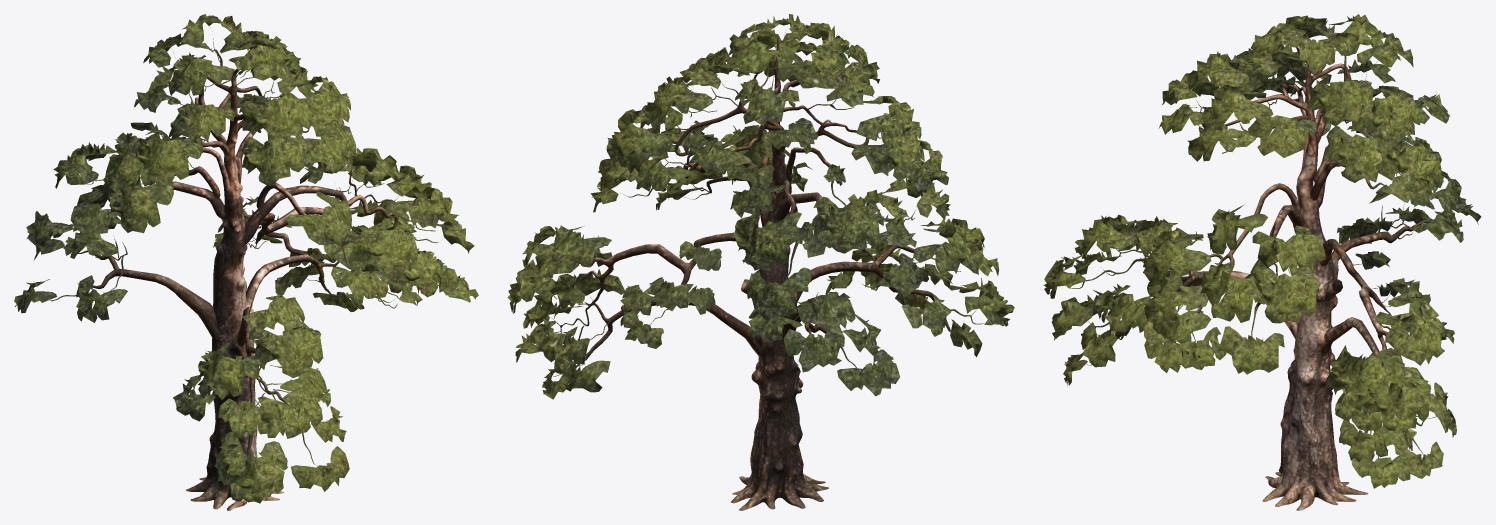
Rendered from tree_2-a18f8a7b76.glb.
The picture shows the model from 3 angles, left to right: view 1: azimuth 30°, elevation 25°; view 2: azimuth 150°, elevation 25°; view 3: azimuth 270°, elevation 25°; orthographic projection. The views are drawn at different scales.
Parts seen in each view (by area): view 1: tripo_node_68b02905-d2ae-4c77-abdc-b713cde8af29; view 2: tripo_node_68b02905-d2ae-4c77-abdc-b713cde8af29; view 3: tripo_node_68b02905-d2ae-4c77-abdc-b713cde8af29.
Part boxes in pixels (x1,y1,x2,y2): tripo_node_68b02905-d2ae-4c77-abdc-b713cde8af29: (14,14,478,510); tripo_node_68b02905-d2ae-4c77-abdc-b713cde8af29: (507,14,1014,510); tripo_node_68b02905-d2ae-4c77-abdc-b713cde8af29: (1043,14,1481,510).
Bounding box in the file's own units: 0.8912 × 0.9995 × 0.8453.
1 material, 1 textured.
